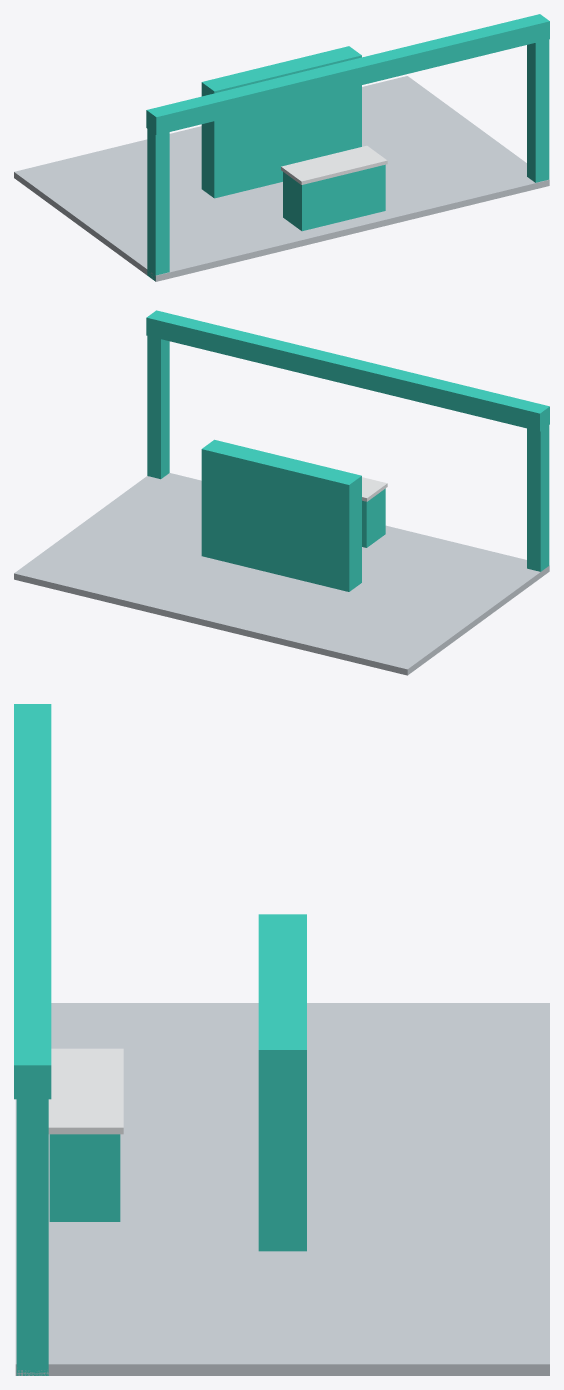
3 renders of one model, top to bottom at view 1: azimuth 30°, elevation 25°; view 2: azimuth 150°, elevation 25°; view 3: azimuth 270°, elevation 25°, orthographic. The views are drawn at different scales.
Parts seen in each view (by area): view 1: Exhibition Booth Concept; view 2: Exhibition Booth Concept; view 3: Exhibition Booth Concept.
Boxes of the visible parts, left/top/right/bottom form: Exhibition Booth Concept: left=14, top=14, right=549, bottom=281; Exhibition Booth Concept: left=14, top=310, right=549, bottom=675; Exhibition Booth Concept: left=14, top=704, right=549, bottom=1375.
Size of the model in its own units: 8 by 3.2 by 5.02.
